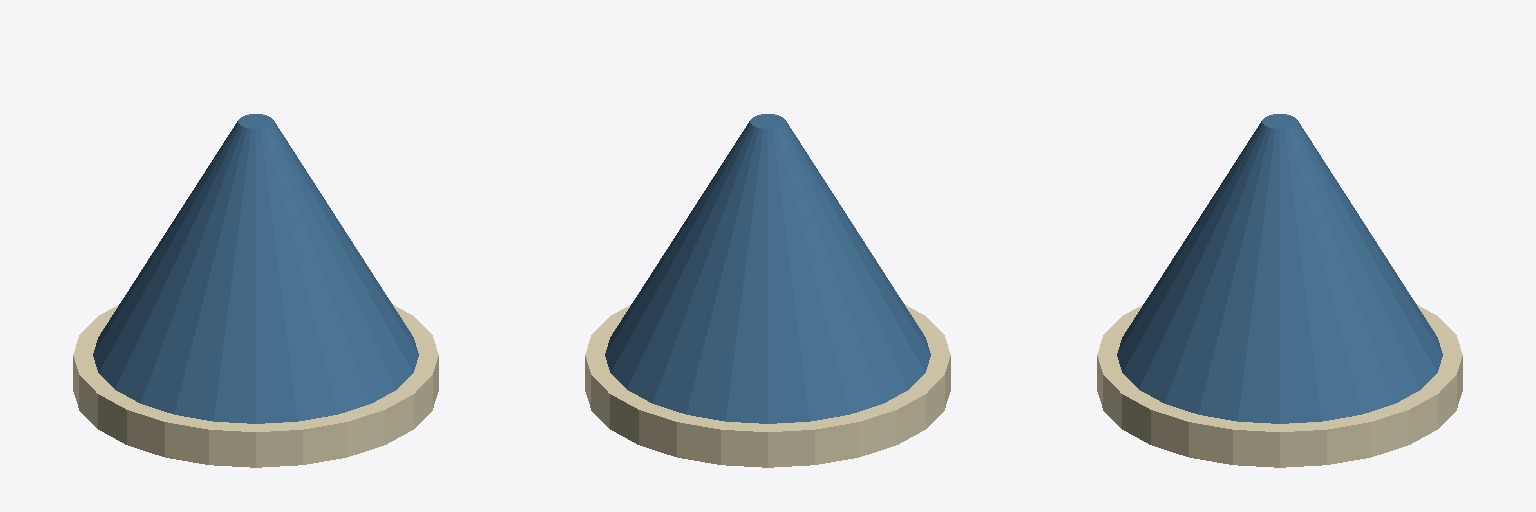
File: towerTopRoof.obj
3 renders of one model, left to right at view 1: azimuth 30°, elevation 25°; view 2: azimuth 150°, elevation 25°; view 3: azimuth 270°, elevation 25°, orthographic.
Visible parts, largest first — view 1: towerTopRoof; view 2: towerTopRoof; view 3: towerTopRoof.
Boxes of the visible parts, x1,y1,x2,y2 form: towerTopRoof: [73, 114, 438, 467]; towerTopRoof: [585, 114, 950, 467]; towerTopRoof: [1097, 114, 1462, 467].
Bounding box in the file's own units: 11.21 × 9.1 × 11.21.